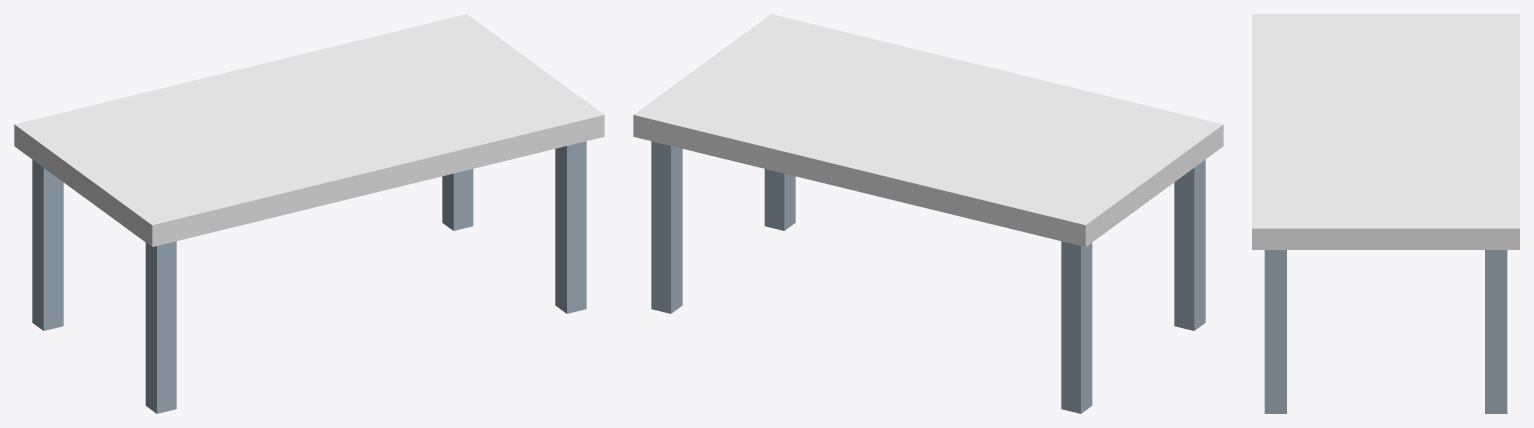
Rendered from table-1.fbx.
3 renders of one model, left to right at view 1: azimuth 30°, elevation 25°; view 2: azimuth 150°, elevation 25°; view 3: azimuth 270°, elevation 25°, orthographic. The views are drawn at different scales.
Visible parts, largest first — view 1: table-1; view 2: table-1; view 3: table-1.
Part boxes in pixels (left/top/right/bottom): table-1: left=14, top=14, right=604, bottom=413; table-1: left=633, top=14, right=1223, bottom=413; table-1: left=1252, top=14, right=1519, bottom=413.
Bounding box in the file's own units: 2.55 × 1.06 × 1.35.
1 material, 1 textured.
